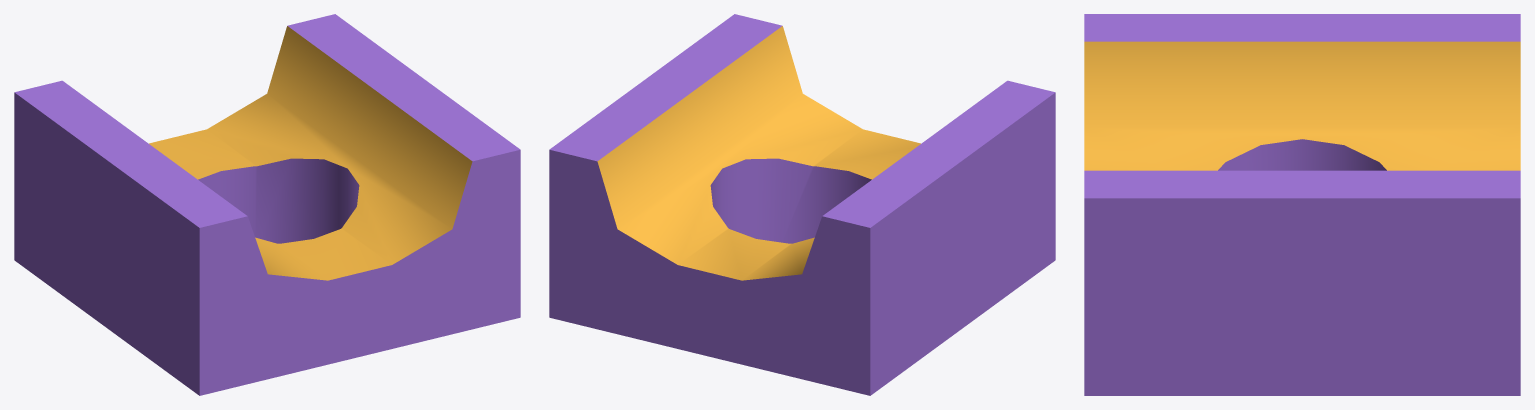
File: straight-hole.glb
3 views of the same model, side by side, from view 1: azimuth 30°, elevation 25°; view 2: azimuth 150°, elevation 25°; view 3: azimuth 270°, elevation 25° (orthographic). The views are drawn at different scales.
Visible parts, largest first — view 1: straight-hole; view 2: straight-hole; view 3: straight-hole.
Boxes of the visible parts, box(x1,y1,x2,y2) form: straight-hole: box(14, 14, 520, 395); straight-hole: box(549, 14, 1055, 395); straight-hole: box(1084, 14, 1520, 395).
Bounding box in the file's own units: 1 × 0.5001 × 1.
Materials: 1 (1 with a texture image).
